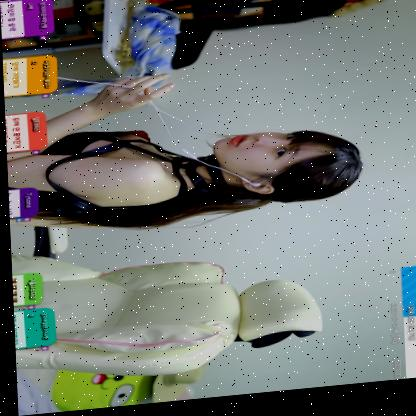streamer: (3, 61, 363, 242)
